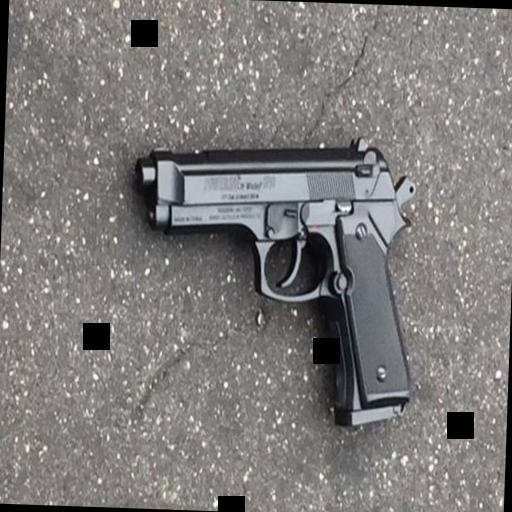Handgun: (118, 134, 439, 430)
